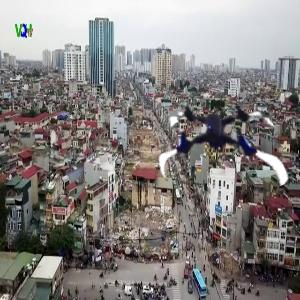drone: (152, 81, 282, 211)
